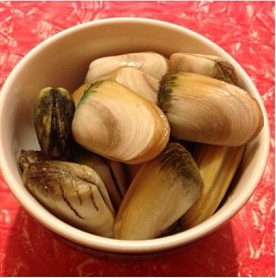tuatua: (115, 141, 203, 241), (70, 78, 170, 165), (158, 72, 265, 147), (21, 157, 115, 236), (188, 141, 245, 229), (84, 50, 170, 87), (32, 85, 74, 159), (169, 51, 243, 86), (113, 64, 164, 106)
